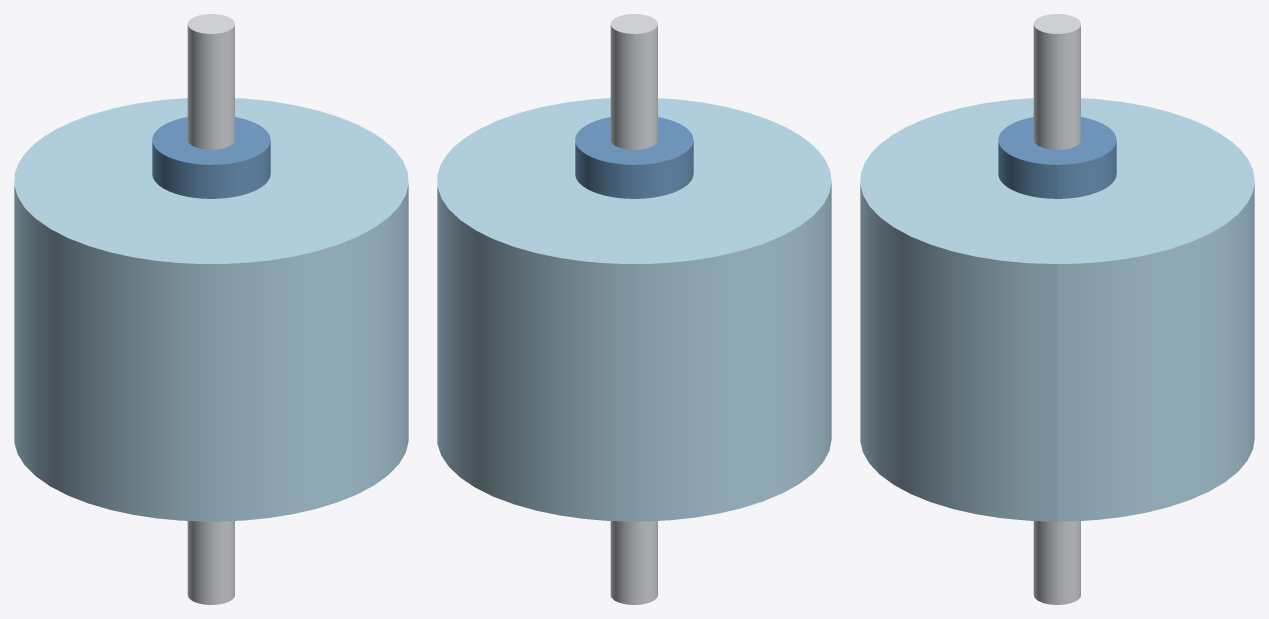
3 renders of one model, left to right at view 1: azimuth 30°, elevation 25°; view 2: azimuth 150°, elevation 25°; view 3: azimuth 270°, elevation 25°, orthographic.
Parts seen in each view (by area): view 1: part_0, part_1, part_2; view 2: part_0, part_1, part_2; view 3: part_0, part_1, part_2.
Boxes of the visible parts, left/top/right/bottom form: part_0: left=14, top=98, right=408, bottom=521; part_1: left=187, top=14, right=234, bottom=604; part_2: left=152, top=117, right=270, bottom=198; part_0: left=437, top=98, right=831, bottom=521; part_1: left=610, top=14, right=657, bottom=604; part_2: left=575, top=117, right=693, bottom=198; part_0: left=860, top=98, right=1254, bottom=521; part_1: left=1033, top=14, right=1080, bottom=604; part_2: left=998, top=117, right=1116, bottom=198.
Bounding box in the file's own units: 0.0666 × 0.1064 × 0.0667.
